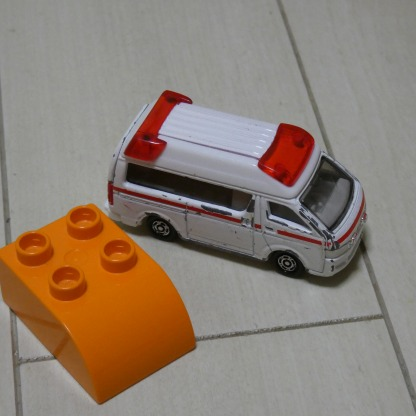car: (106, 89, 367, 284)
